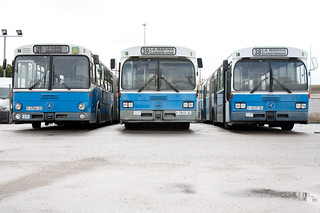bus: (10, 43, 119, 129), (204, 47, 309, 131), (118, 45, 205, 130)
